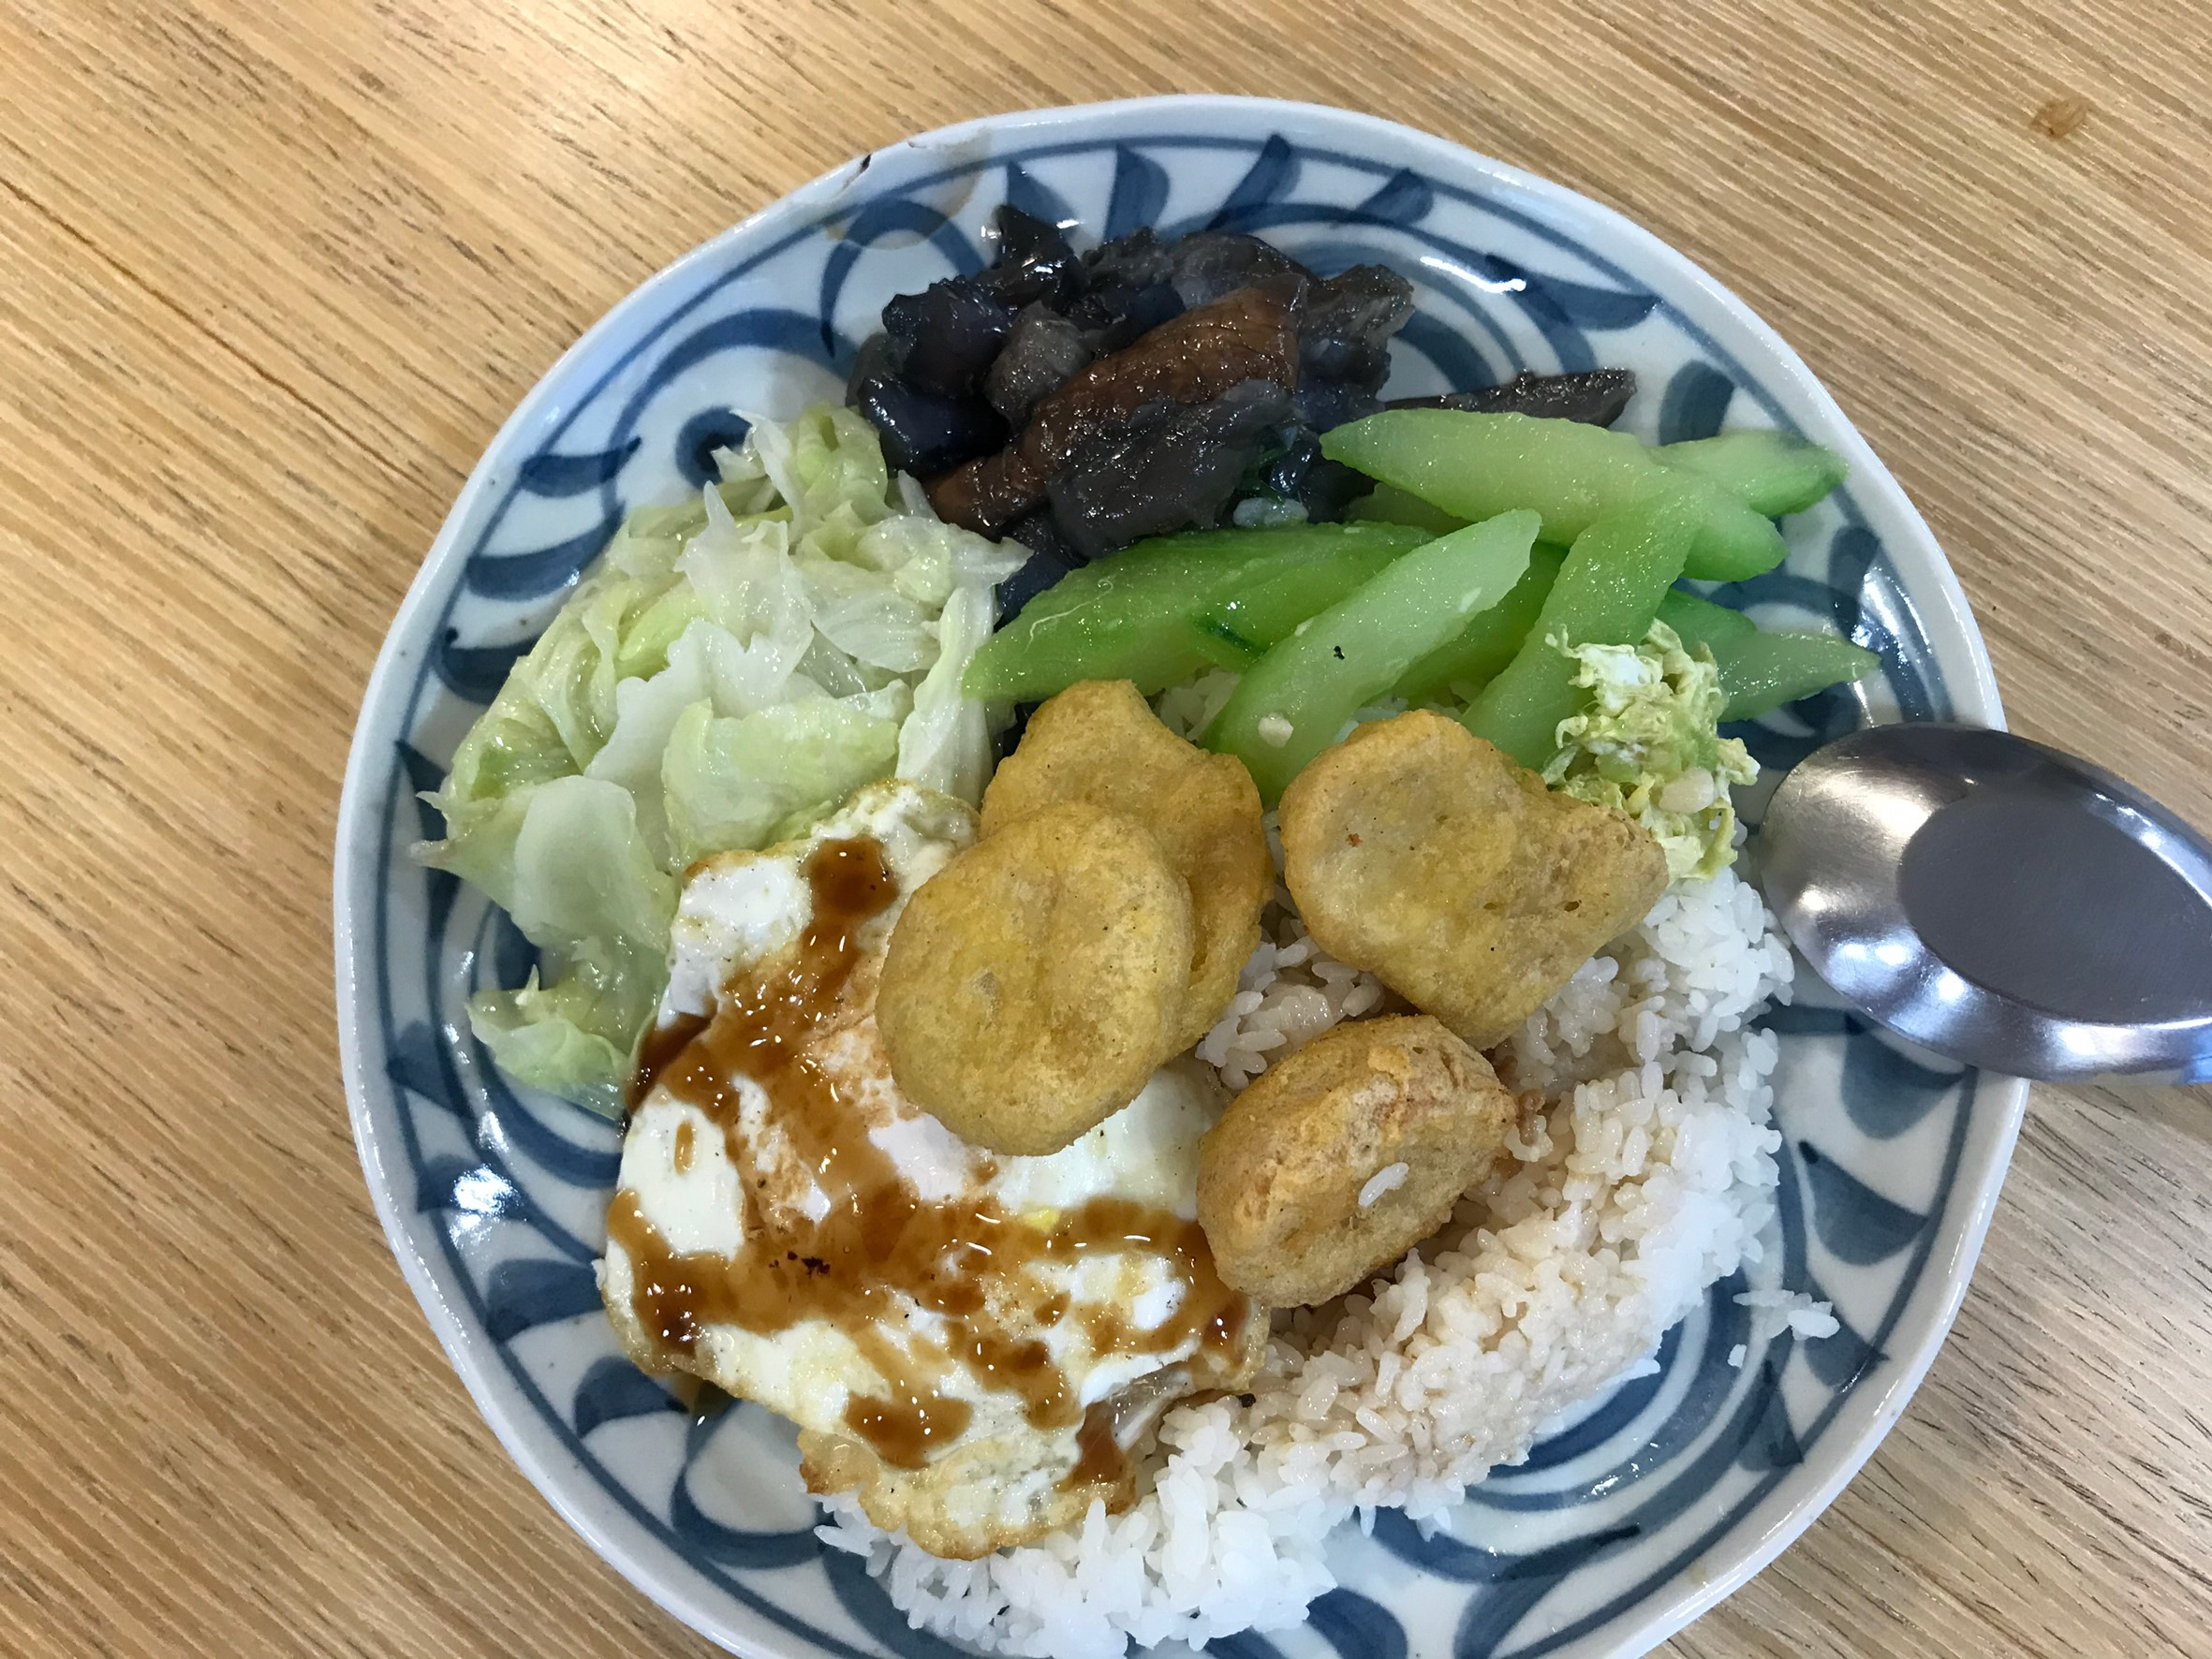chicken_nuggets: (885, 676, 1666, 1302)
chinese_cabbage: (539, 498, 964, 784)
fried_eggs: (607, 988, 1253, 1554)
rice: (1523, 913, 1795, 1380), (1246, 1316, 1513, 1534)
